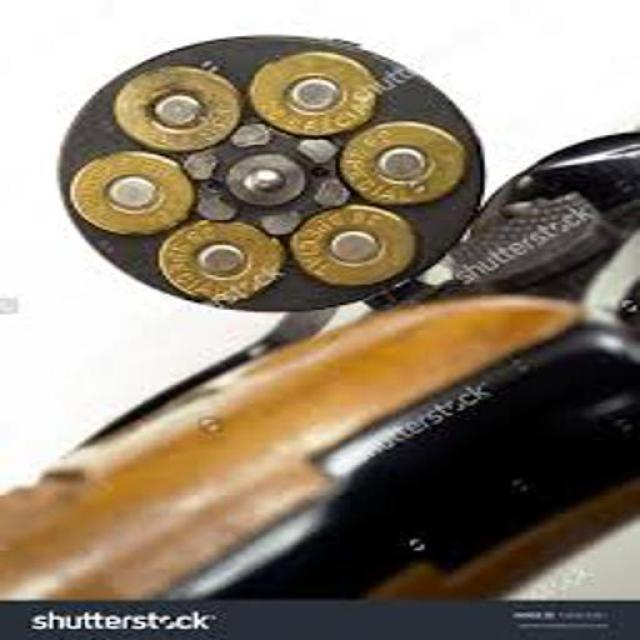pistol: (2, 11, 640, 597)
